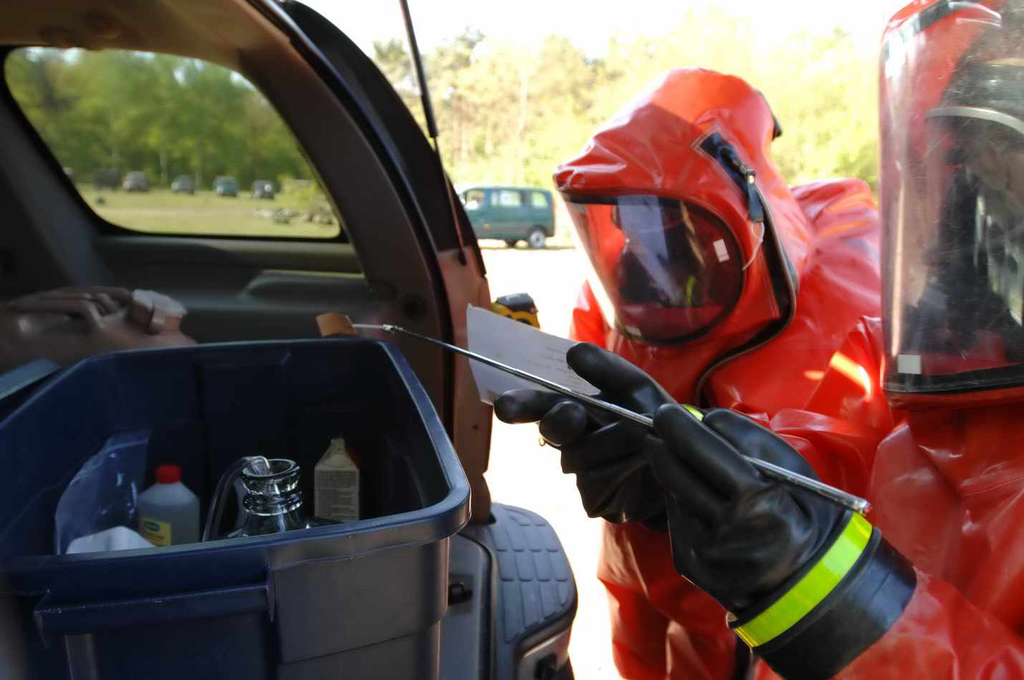Car: (12, 7, 575, 680)
